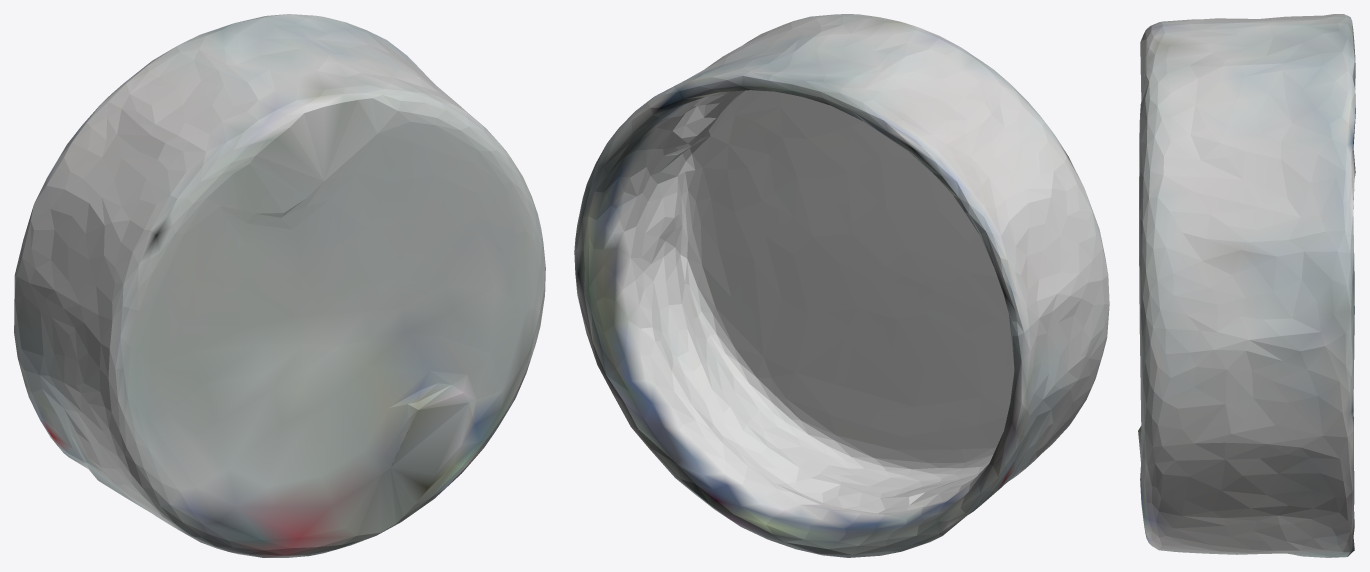
Rendered from scan.obj.
3 views of the same model, side by side, from view 1: azimuth 30°, elevation 25°; view 2: azimuth 150°, elevation 25°; view 3: azimuth 270°, elevation 25° (orthographic). The views are drawn at different scales.
Visible parts, largest first — view 1: scan.ply; view 2: scan.ply; view 3: scan.ply.
Boxes of the visible parts, <box> form: scan.ply: <box>14,14,545,557</box>; scan.ply: <box>574,14,1109,557</box>; scan.ply: <box>1138,14,1355,557</box>.
Bounding box in the file's own units: 0.044 × 0.0439 × 0.0175.
